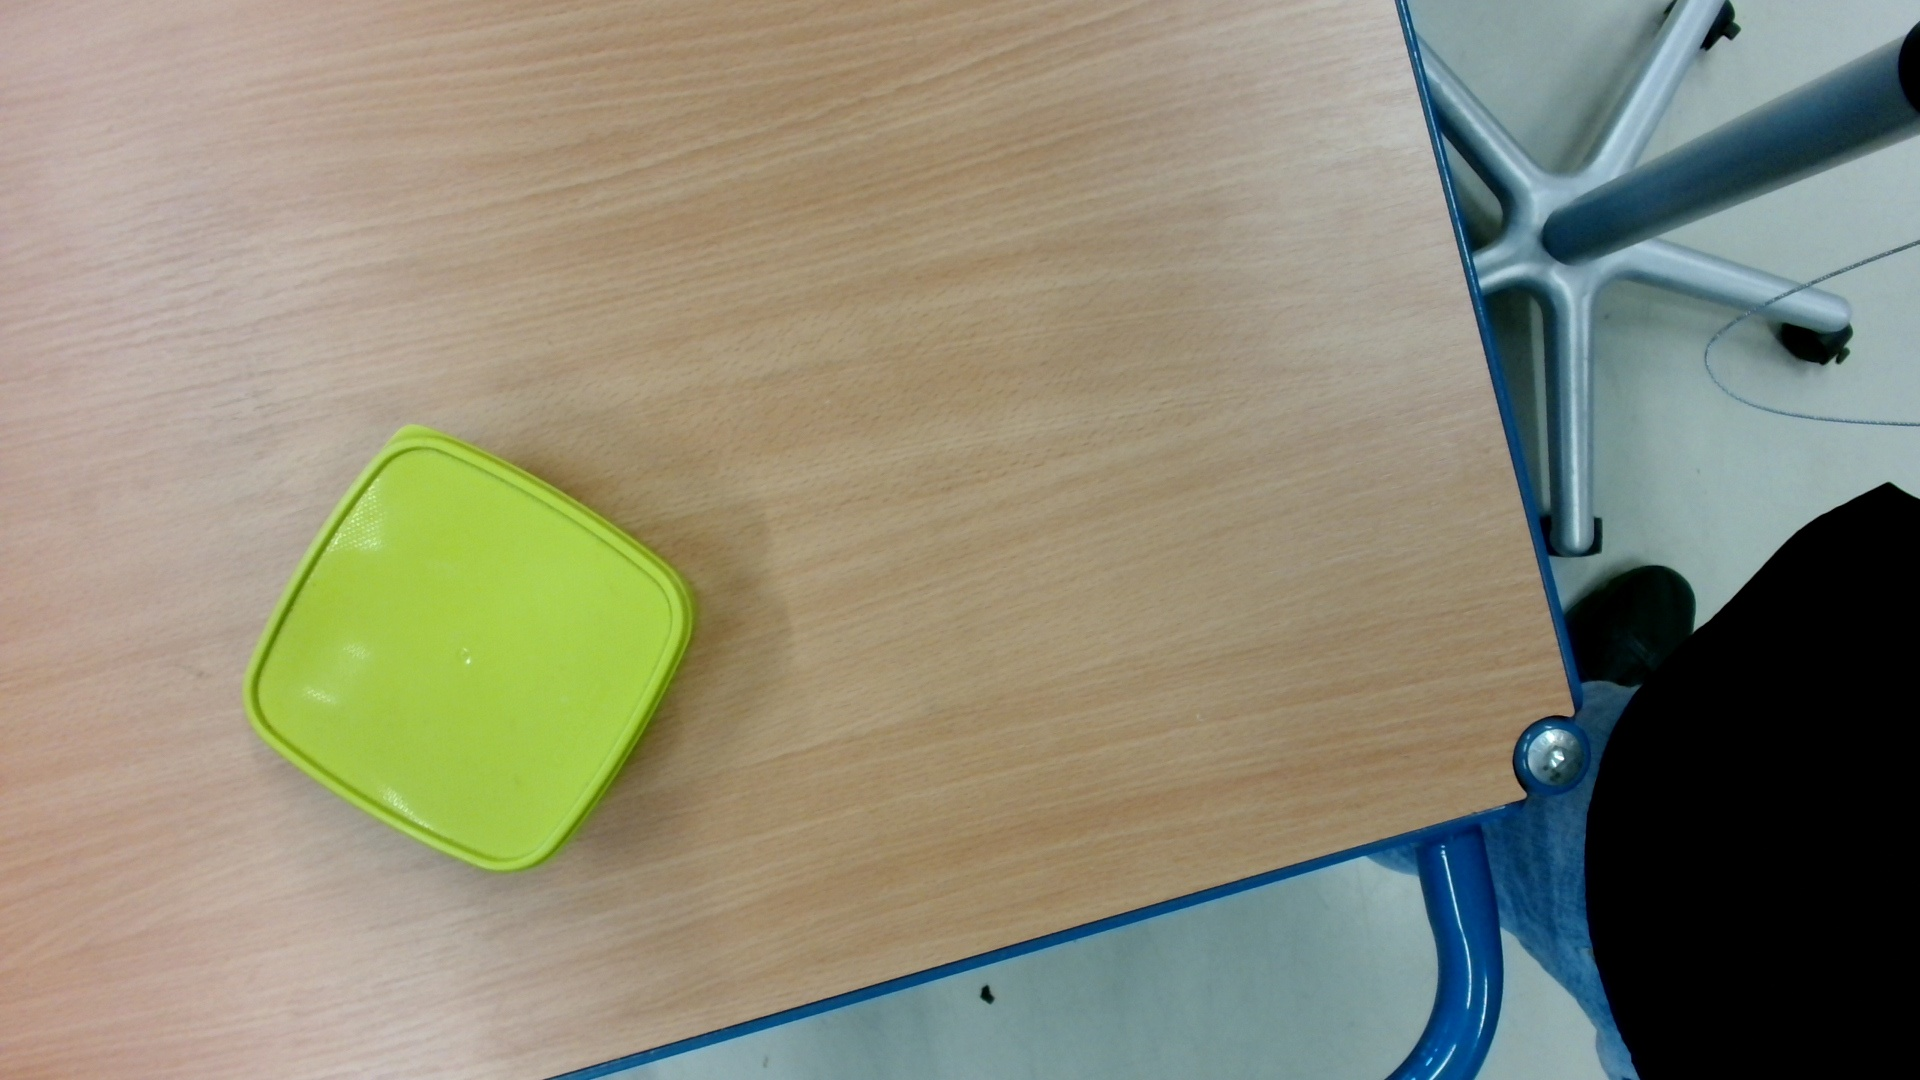Box: (231, 417, 704, 887)
